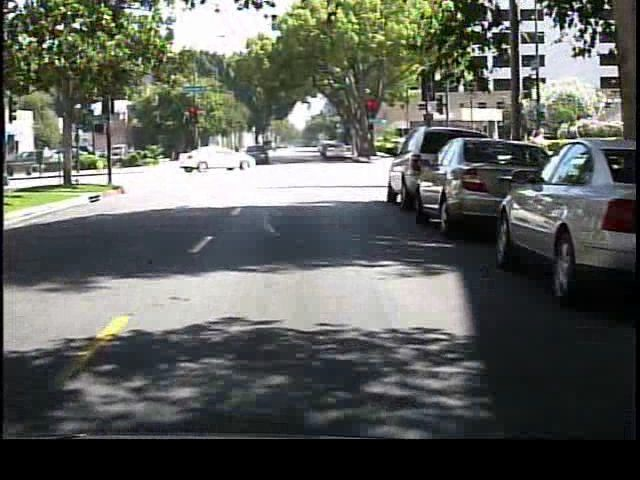person: (255, 141, 272, 170)
